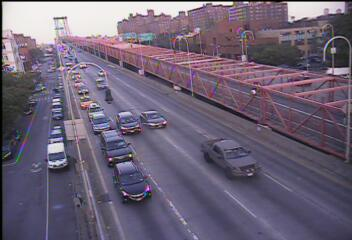neg: (285, 88, 321, 137), (93, 80, 123, 120), (231, 63, 260, 102), (28, 142, 55, 177), (172, 127, 197, 159), (243, 146, 267, 177), (57, 90, 80, 120), (101, 187, 124, 217), (107, 142, 129, 171), (154, 193, 175, 220), (298, 42, 318, 69), (40, 193, 60, 220), (50, 137, 69, 162), (256, 22, 275, 47), (152, 22, 170, 46), (150, 59, 167, 81), (266, 203, 283, 225), (88, 24, 105, 46), (47, 59, 64, 81), (187, 58, 203, 80), (52, 18, 68, 39)
